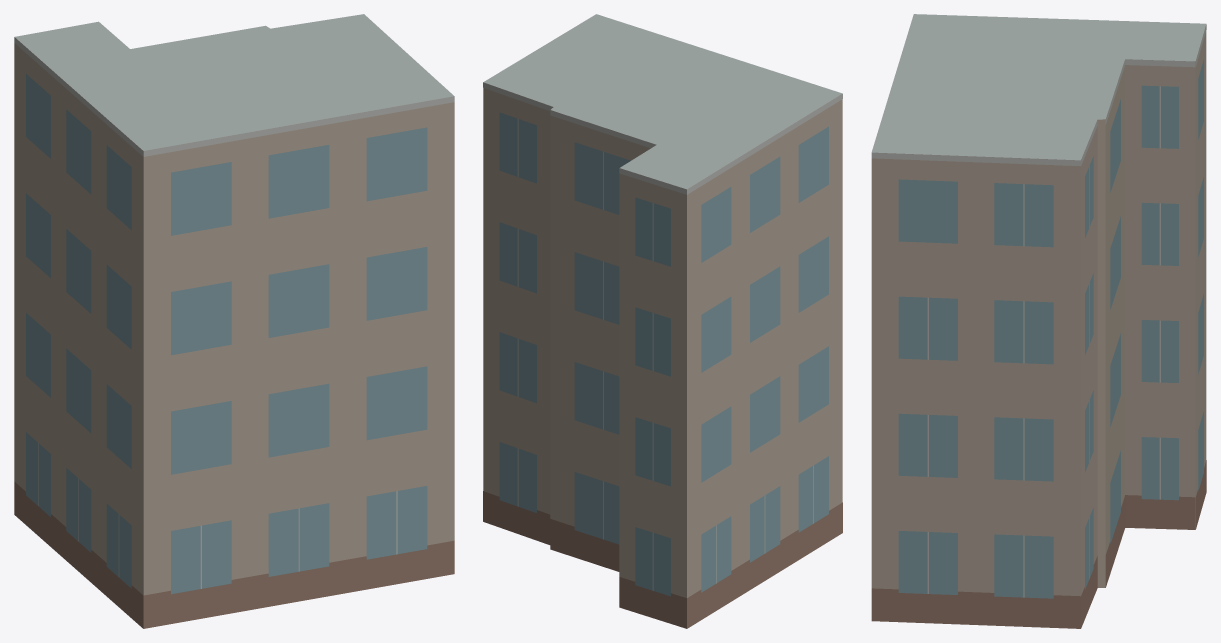
File: survey-upis-32949927.glb
3 views of the same model, side by side, from view 1: azimuth 30°, elevation 25°; view 2: azimuth 150°, elevation 25°; view 3: azimuth 270°, elevation 25° (orthographic). The views are drawn at different scales.
Parts seen in each view (by area): view 1: survey-upis-32949927.tmp; view 2: survey-upis-32949927.tmp; view 3: survey-upis-32949927.tmp.
Part boxes in pixels (x1,y1,x2,y2): survey-upis-32949927.tmp: (14,14,454,628); survey-upis-32949927.tmp: (483,14,842,628); survey-upis-32949927.tmp: (871,14,1206,628).
Bounding box in the file's own units: 13.21 × 19.7 × 12.78.
